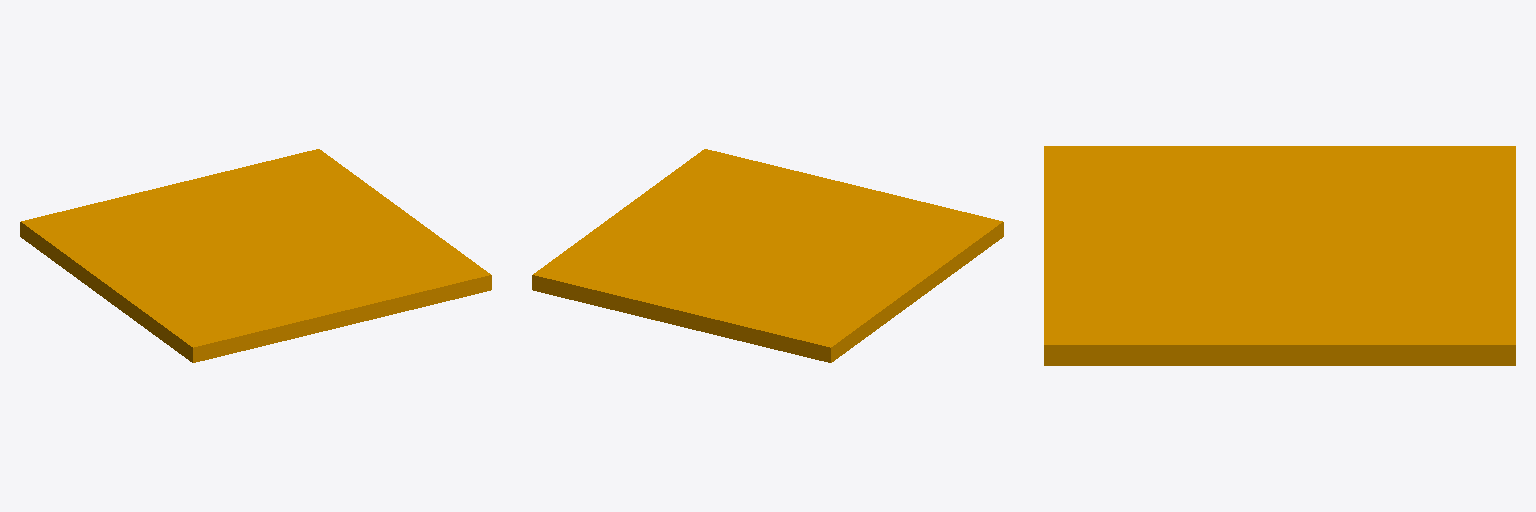
The robot description file, URDF, robot "table":
<robot name="table">
  <link name="link">
    <inertial>
      <origin xyz="0 0 0.01" />
      <mass value="0.1" />
      <!-- (1/12)*mass*(y^2 + z^2)  (1/12)*mass*(x^2 + z^2) (1/12)*mass*(x^2 + y^2) -->
      <inertia  ixx="0.0" ixy="0.0"  ixz="0.0"  iyy="0.0"  iyz="0.0"  izz="0.0" />
    </inertial>
    <visual>
      <origin xyz="0 0 0.01"/>
      <geometry>
        <box size="0.4 0.4 0.02" />
      </geometry>
    </visual>
    <collision>
      <origin xyz="0 0 0.01"/>
      <geometry>
        <box size="0.4 0.4 0.02" />
      </geometry>
    </collision>
  </link>
  <gazebo reference="link">
    <material>Gazebo/White</material>
    <mu1>1000</mu1>
    <mu2>1000</mu2>
    <!--maxVel>0.0</maxVel>
    <minDepth>0.0001</minDepth-->
  </gazebo>
  <gazebo>
    <static>true</static>
  </gazebo>
</robot>

--- Facts derived from the render (not from the file) ---
3 views of the same robot in one strip: view 1: azimuth 30°, elevation 25°; view 2: azimuth 150°, elevation 25°; view 3: azimuth 270°, elevation 25° (orthographic).
Robot: table — 1 links, 0 joints (none); root link link; default pose: all joints at 0.
Links seen in each view (by area): view 1: link; view 2: link; view 3: link.
Boxes of the visible links, x1,y1,x2,y2 form: link: [20, 149, 491, 362]; link: [532, 149, 1003, 362]; link: [1044, 146, 1515, 365].
Size in the robot's own frame: 0.4 by 0.4 by 0.02 metres.
Geometry: primitives only (box / cylinder / sphere), no mesh files.